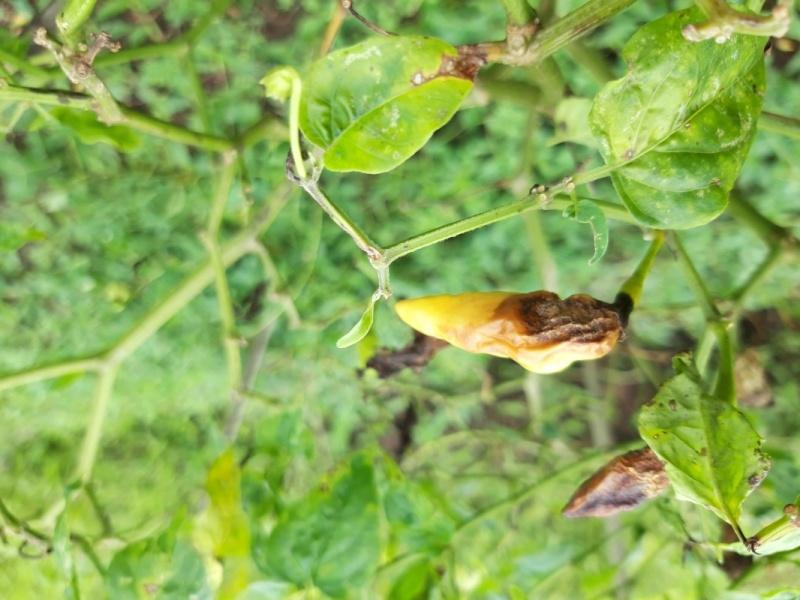antraknosa: (391, 291, 620, 375), (562, 446, 668, 517)
